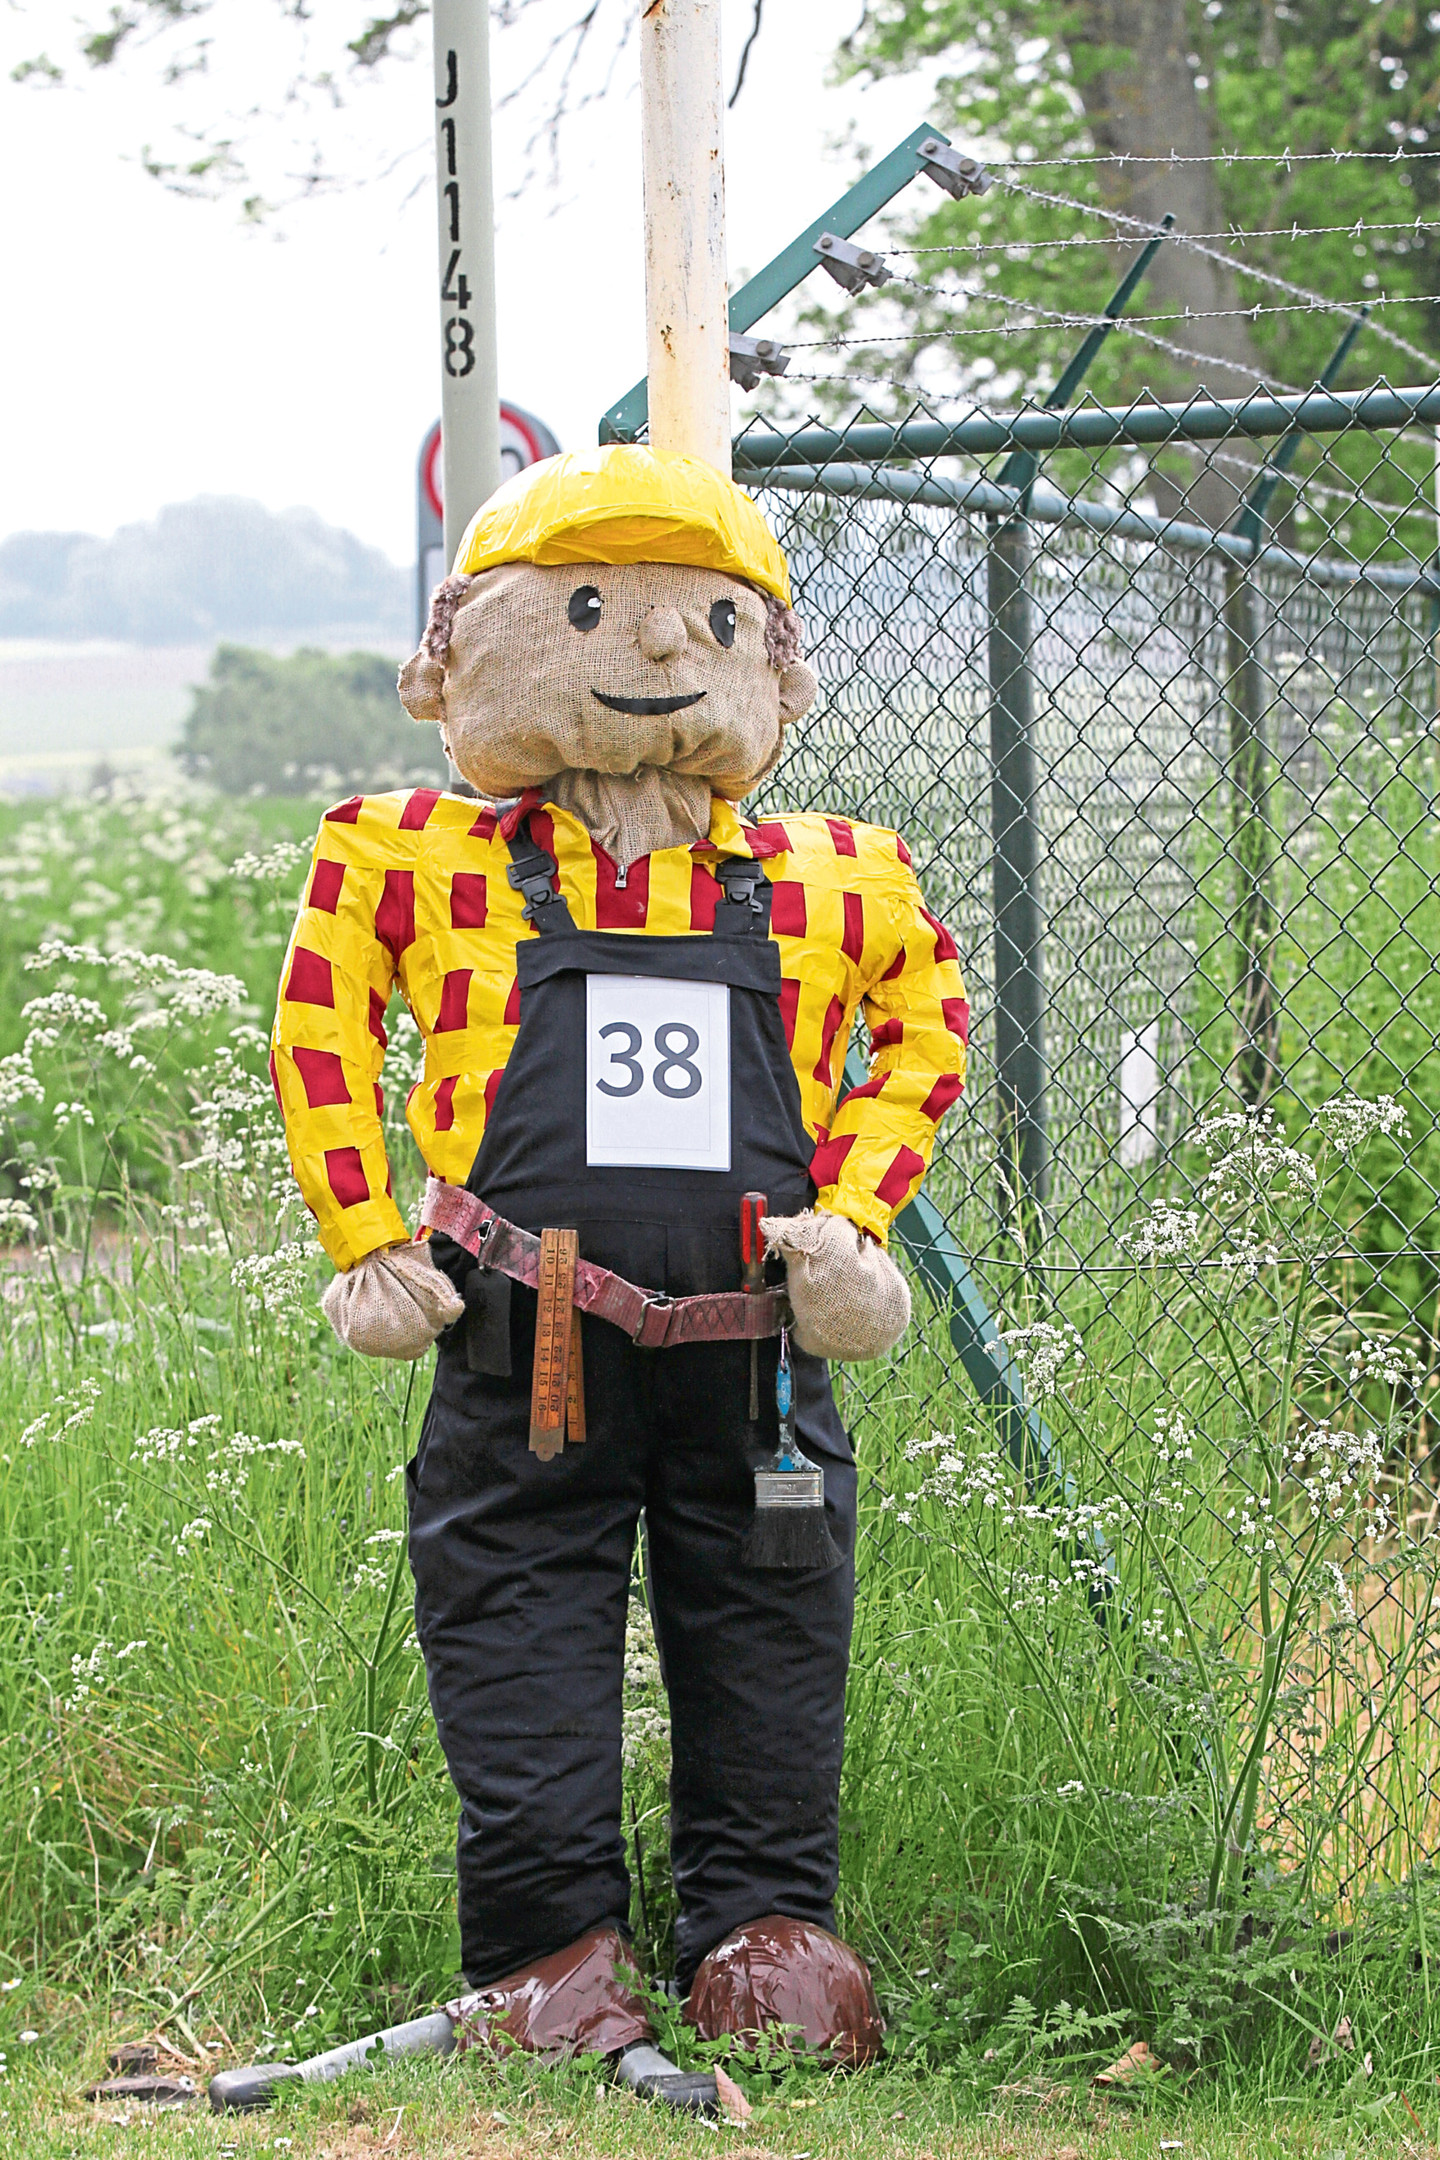person-like: (257, 434, 1017, 2087)
